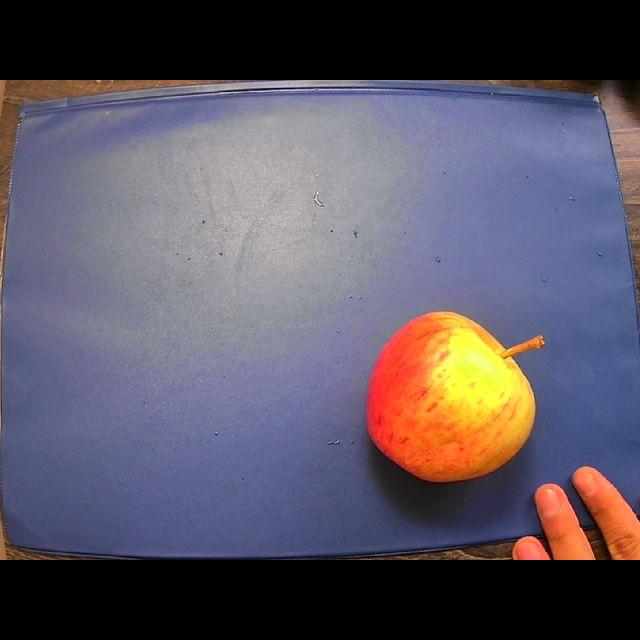manzana: (367, 311, 544, 482)
